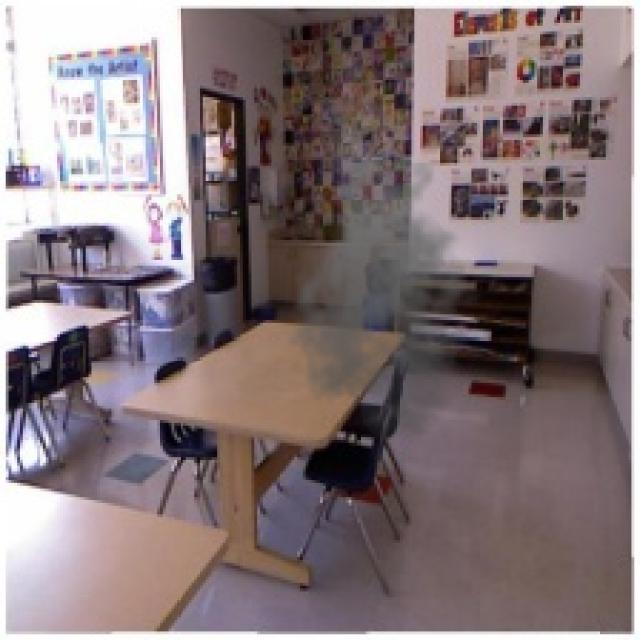smoke: (286, 163, 491, 443)
